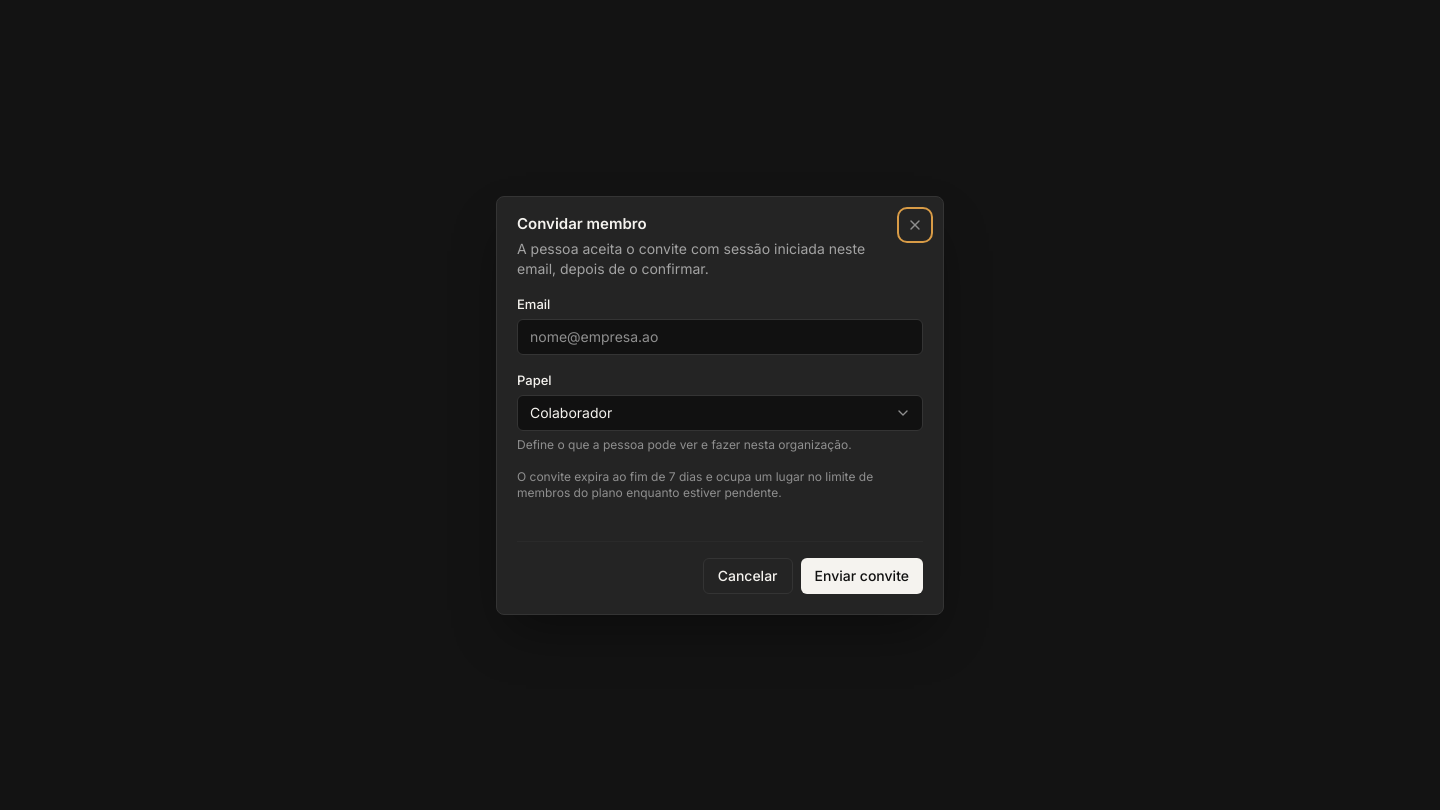
team invitations — organization side (ul-platform migration 0025) › explains a duplicate invitation, an existing member and a full plan in plain words
Type "ana@empresa.ao" into the field labelled "Email" at (720, 336), box [517,318,923,354]
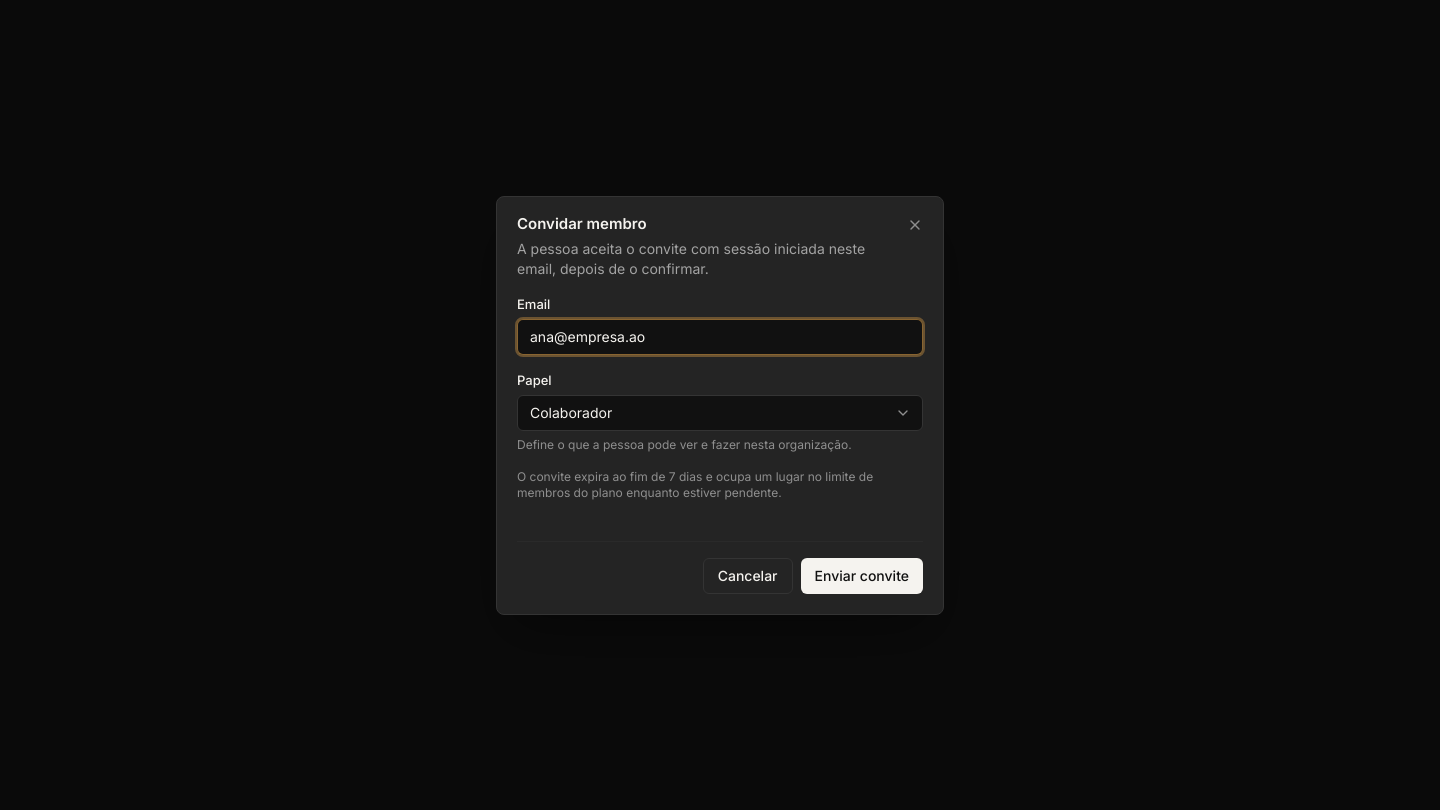
Click the button "Enviar convite" at (862, 576), box [800,558,923,594]
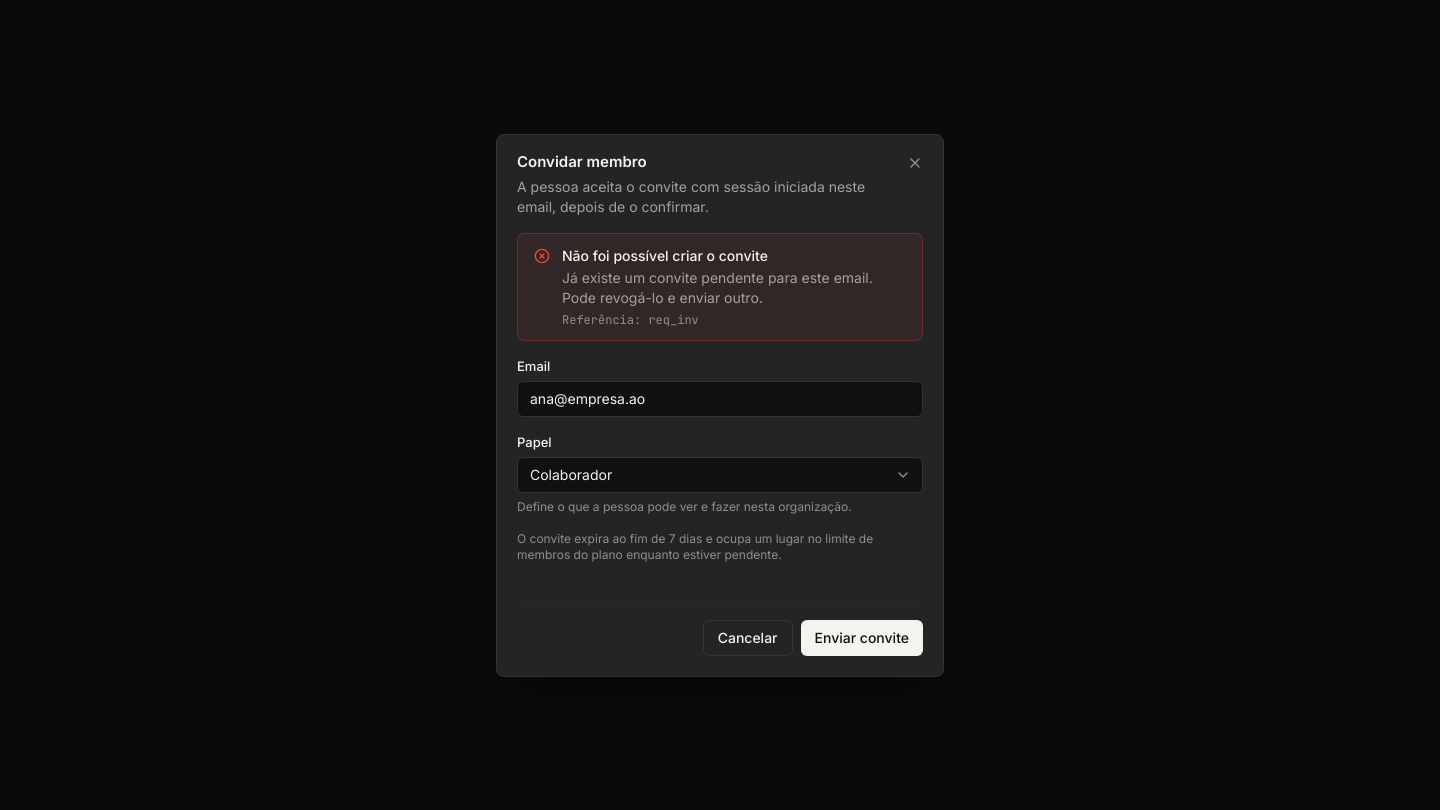
Check: the text "Já existe um convite pendente para este email" is shown, box [562,268,873,306]
Click the button "Enviar convite" at (862, 638), box [800,620,923,656]
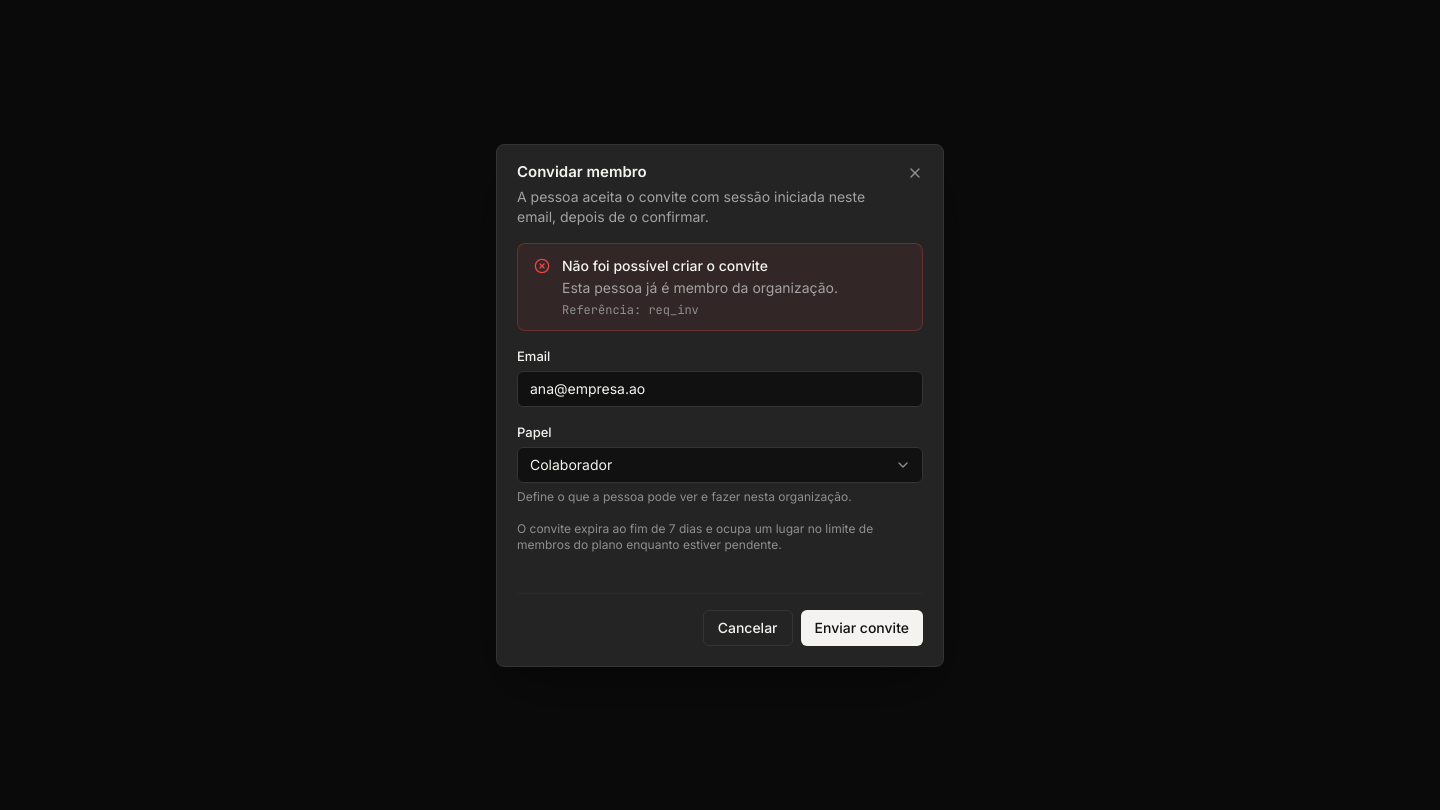
Check: the text "Esta pessoa já é membro da organização." is shown, box [562,278,838,296]
Click the button "Enviar convite" at (862, 628), box [800,610,923,646]
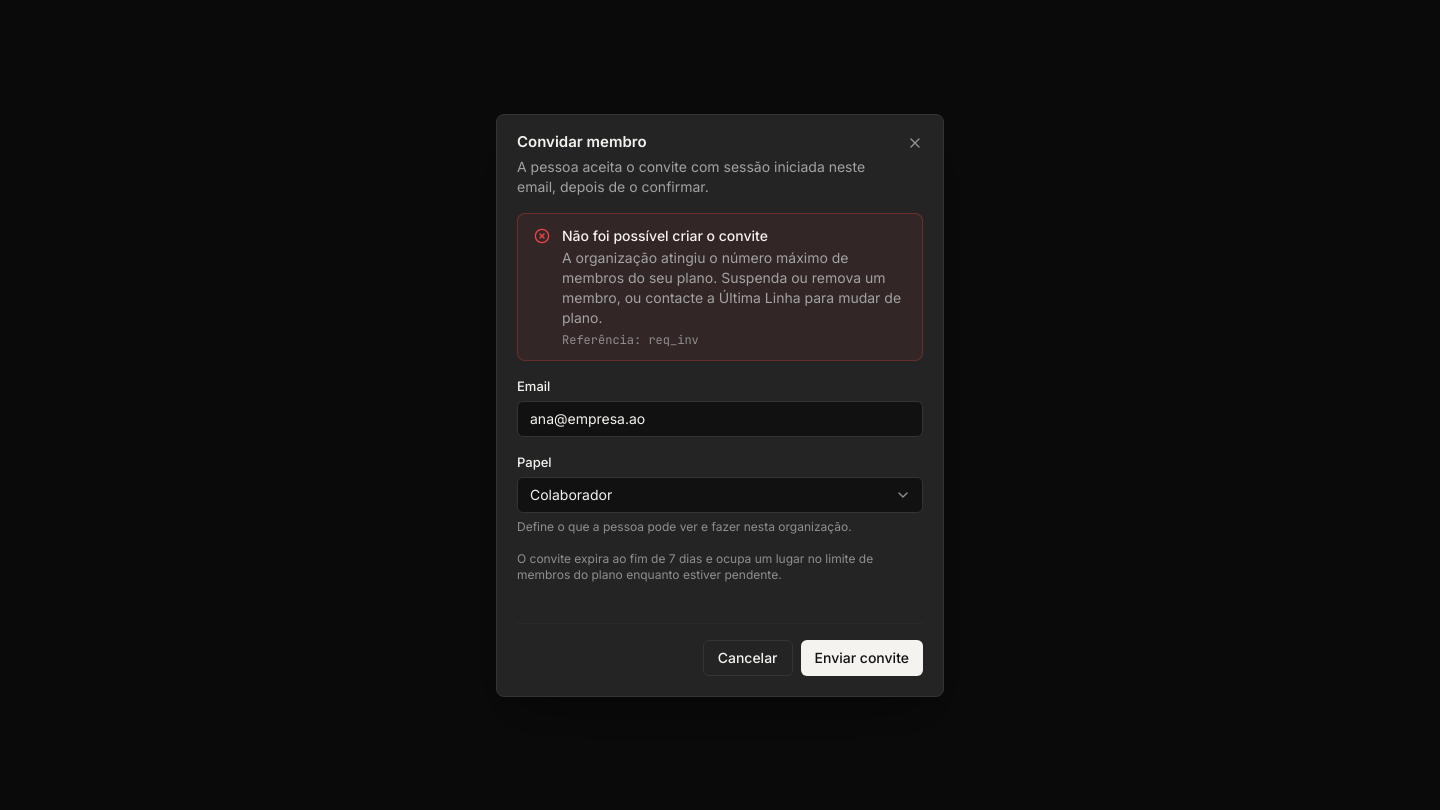
Check: the text "número máximo de membros do seu plano" is shown, box [562,248,901,326]
